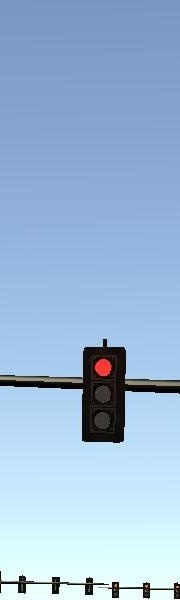Red: (83, 348, 126, 442)
